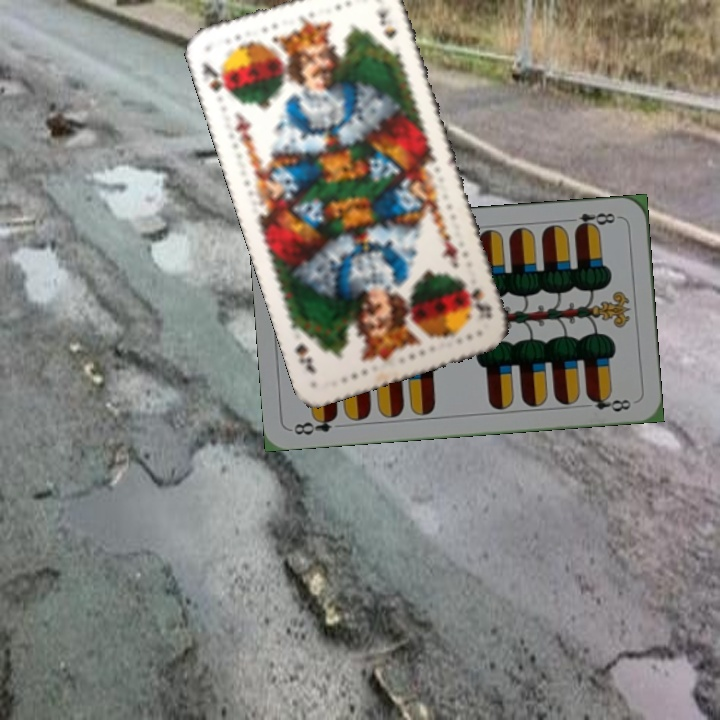E8: (563, 208, 622, 233), (290, 411, 340, 438)
SK: (197, 58, 234, 99), (464, 284, 495, 322)
